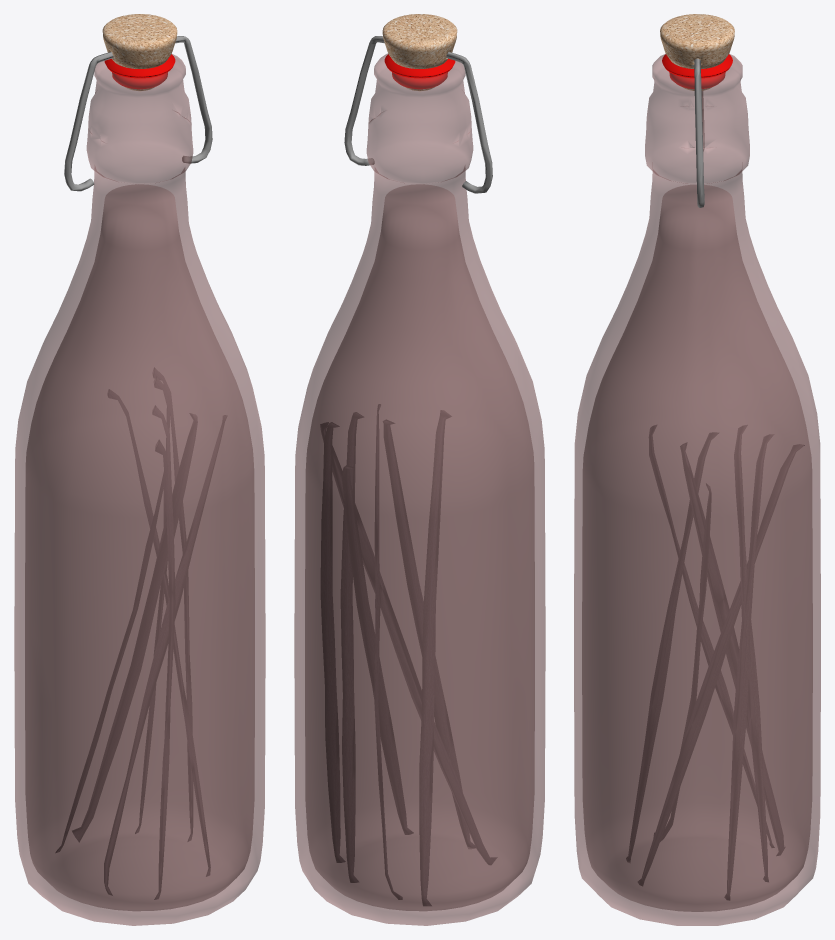
Rendered from vanilla.fbx.
3 views of the same model, side by side, from view 1: azimuth 30°, elevation 25°; view 2: azimuth 150°, elevation 25°; view 3: azimuth 270°, elevation 25° (orthographic).
Parts seen in each view (by area): view 1: vanilla_essence1; view 2: vanilla_essence1; view 3: vanilla_essence1.
Part boxes in pixels (x1=…): vanilla_essence1: x1=14, y1=14, x2=265, y2=925; vanilla_essence1: x1=294, y1=14, x2=545, y2=925; vanilla_essence1: x1=574, y1=14, x2=820, y2=925.
Bounding box in the file's own units: 12.51 × 47.84 × 12.51.
6 materials, 2 textured.
